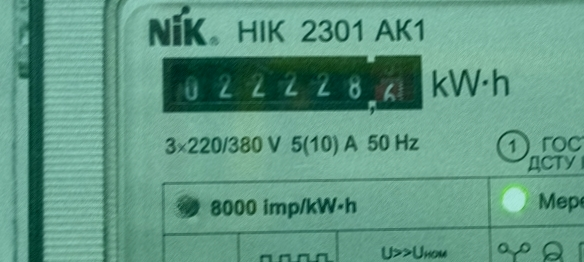0: (180, 73, 196, 102)
2: (213, 71, 232, 100), (313, 70, 330, 99), (279, 70, 297, 97), (247, 71, 264, 99)
5: (379, 57, 395, 78)
6: (379, 80, 395, 102)
8: (344, 72, 360, 101)
screen: (152, 43, 430, 122)
